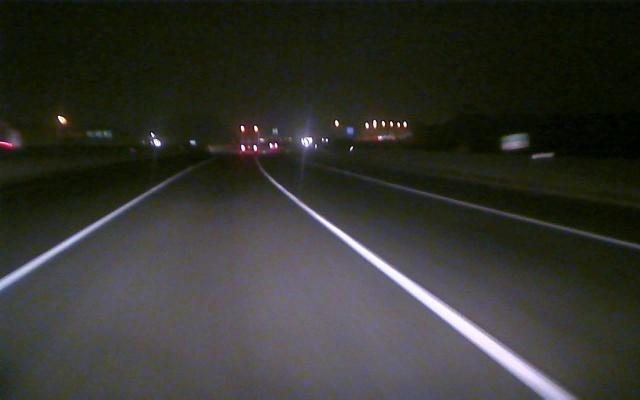lane: (273, 181, 576, 397), (340, 172, 640, 251), (2, 176, 176, 289)
